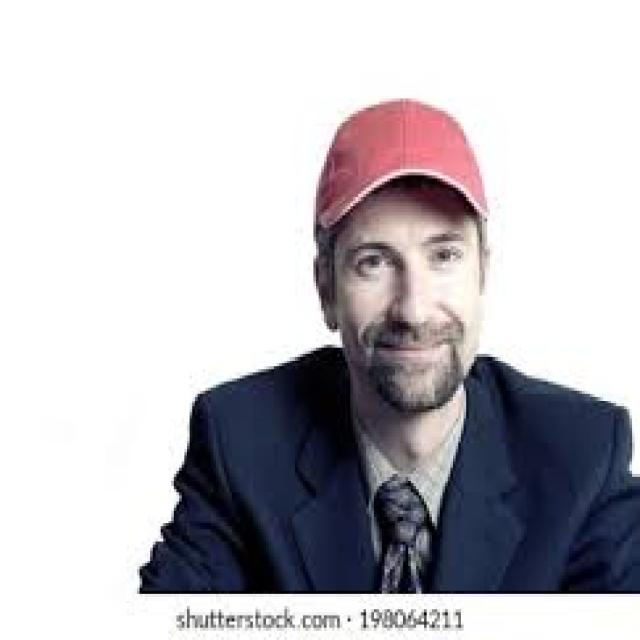cap: (305, 95, 498, 412)
